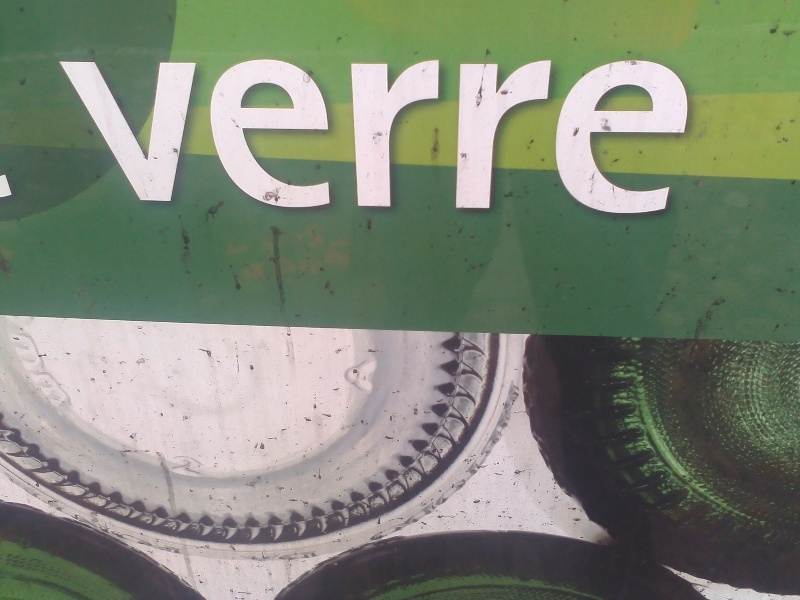text: (65, 54, 80, 215), (81, 54, 96, 215), (97, 54, 112, 215), (113, 54, 128, 215), (129, 54, 144, 215), (145, 54, 160, 215), (161, 54, 176, 215), (177, 54, 192, 215), (193, 54, 208, 215), (209, 54, 224, 215), (225, 54, 240, 215), (241, 54, 256, 215), (257, 54, 272, 215), (273, 54, 288, 215), (289, 54, 304, 215), (305, 54, 320, 215), (321, 54, 336, 215), (337, 54, 352, 215), (353, 54, 368, 215), (369, 54, 384, 215), (385, 54, 400, 215), (401, 54, 416, 215), (417, 54, 432, 215), (433, 54, 448, 215), (449, 54, 464, 215), (465, 54, 480, 215), (481, 54, 496, 215), (497, 54, 512, 215), (513, 54, 528, 215), (529, 54, 544, 215), (545, 54, 560, 215), (561, 54, 576, 215), (577, 54, 592, 215), (593, 54, 608, 215), (609, 54, 624, 215), (625, 54, 640, 215), (641, 54, 656, 215), (657, 54, 672, 215), (673, 54, 688, 215), (55, 54, 64, 215), (689, 54, 696, 215)
